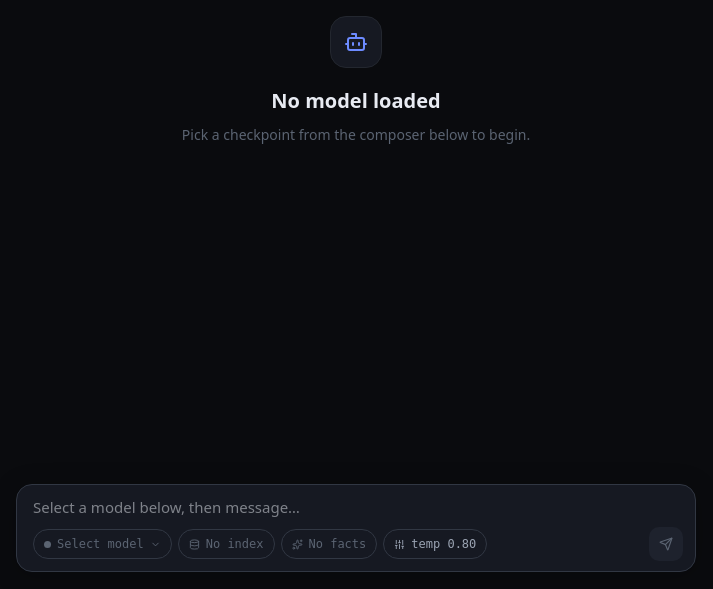
Test case: chat recovery and errors › releases loading controls and displays a model-load HTTP failure
Step 1. Click the button "Select model" → {"x": 102, "y": 544}, box [33,529,172,559]
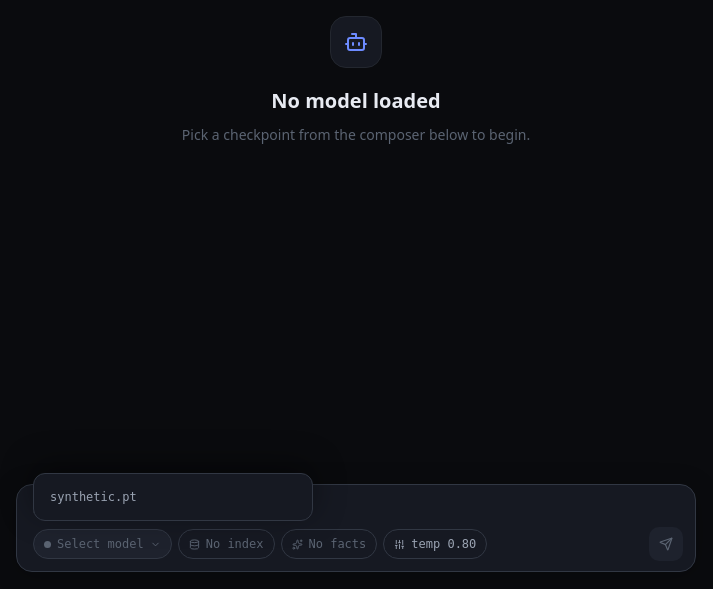
Step 2. Click the button "synthetic.pt" → {"x": 93, "y": 497}, box [40,480,306,514]
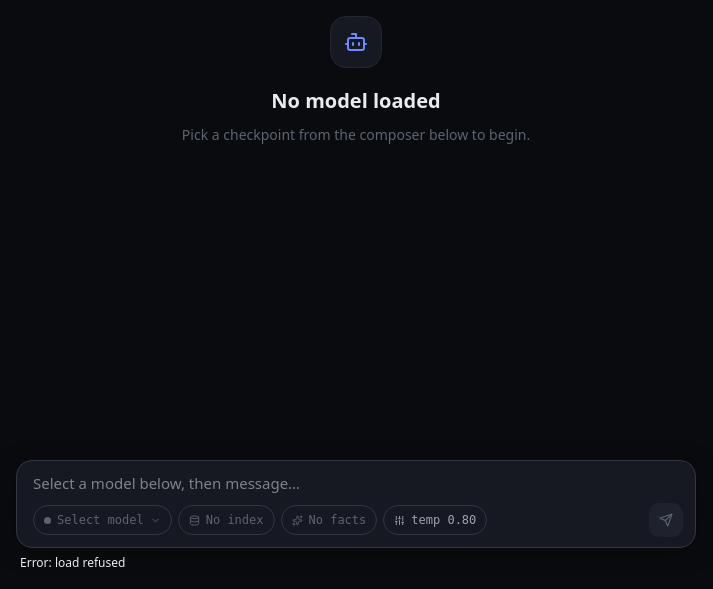
Expected: the button "Select model" is enabled, [33,505,172,535]
Expected: the text "Error: load refused" is shown, [20,554,125,571]
